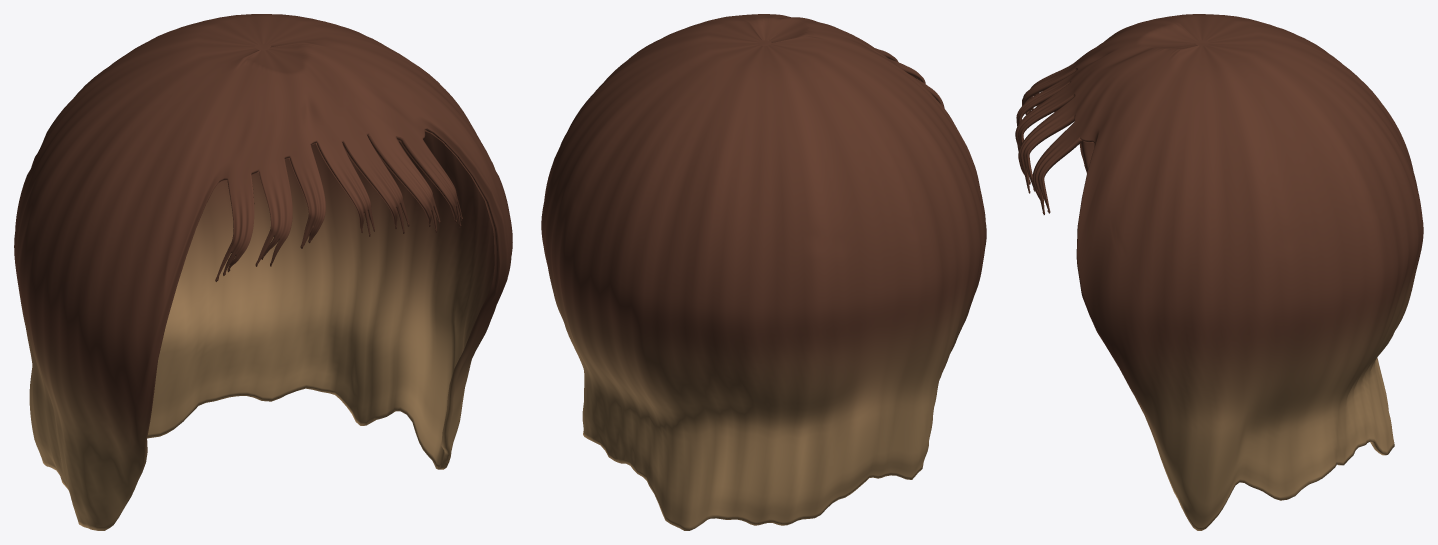
The model's file is side-sweep-cowboy-ombre.glb.
3 renders of one model, left to right at view 1: azimuth 30°, elevation 25°; view 2: azimuth 150°, elevation 25°; view 3: azimuth 270°, elevation 25°, orthographic. The views are drawn at different scales.
Visible parts, largest first — view 1: Wispy bangs / continuous crown; view 2: Wispy bangs / continuous crown; view 3: Wispy bangs / continuous crown.
Boxes of the visible parts, x1,y1,x2,y2 form: Wispy bangs / continuous crown: (14,14,512,530); Wispy bangs / continuous crown: (541,14,986,530); Wispy bangs / continuous crown: (1015,14,1423,530).
Bounding box in the file's own units: 0.8388 × 0.8725 × 0.7734.
